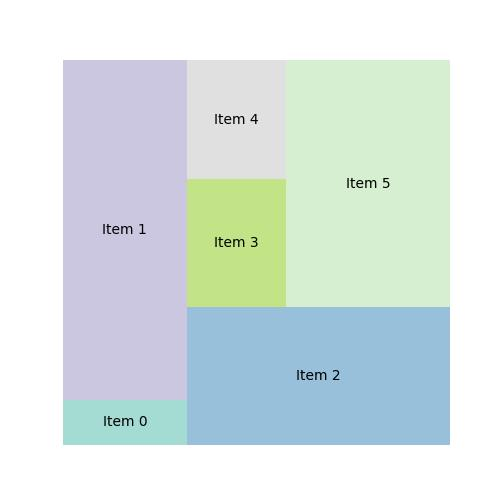rectangle: (65, 59, 187, 401), (286, 59, 450, 311), (188, 309, 449, 446), (189, 179, 287, 307), (189, 59, 287, 178), (63, 402, 189, 444)
